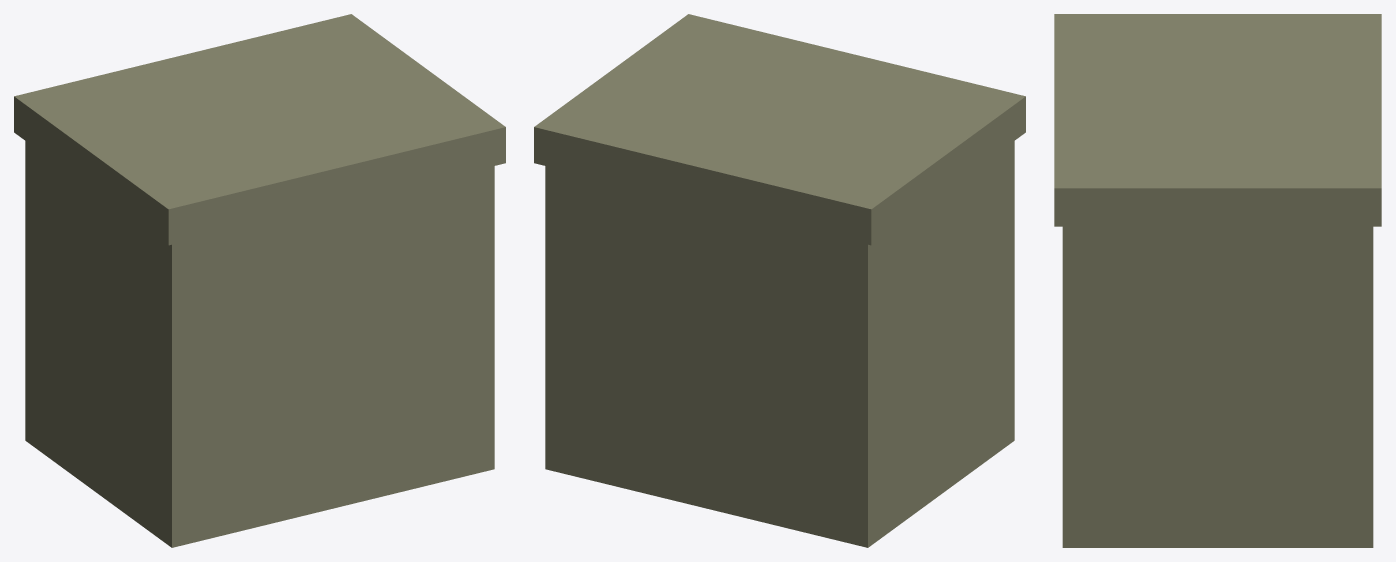
Rendered from ind_shed.glb.
The picture shows the model from 3 angles, left to right: view 1: azimuth 30°, elevation 25°; view 2: azimuth 150°, elevation 25°; view 3: azimuth 270°, elevation 25°; orthographic projection. The views are drawn at different scales.
Visible parts, largest first — view 1: ind_shed; view 2: ind_shed; view 3: ind_shed.
Boxes of the visible parts, x1,y1,x2,y2 form: ind_shed: (14, 14, 505, 547); ind_shed: (534, 14, 1025, 547); ind_shed: (1054, 14, 1381, 547).
Bounding box in the file's own units: 0.782 × 0.76 × 0.62.
